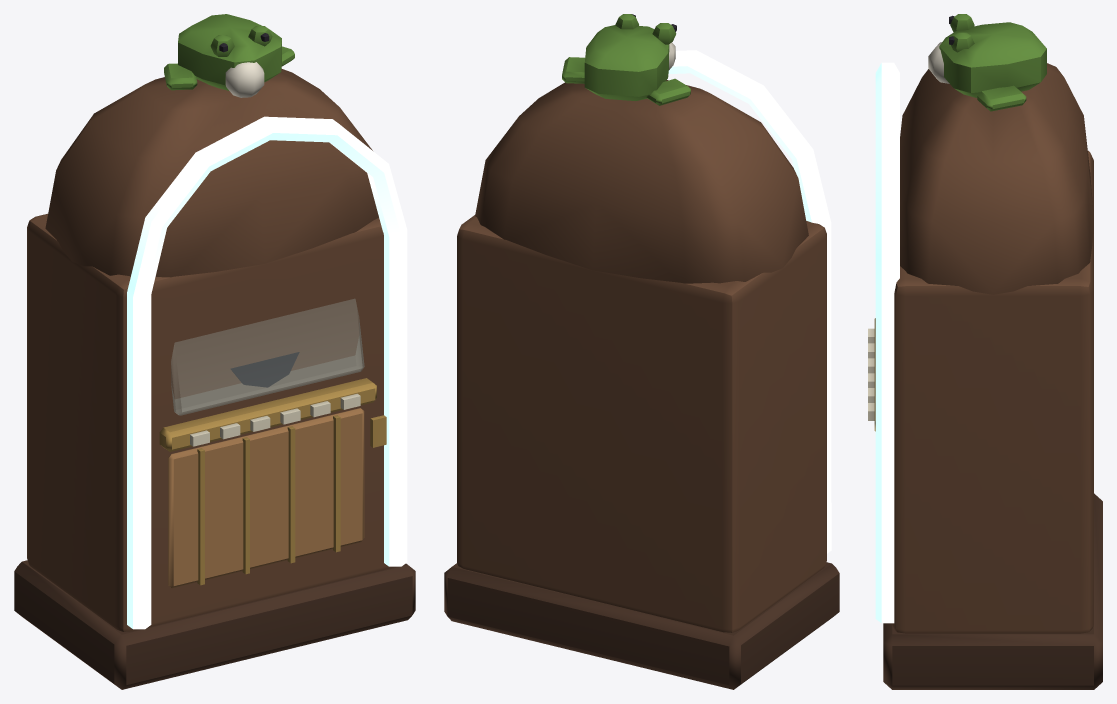
The model's file is jukebox_swamp.glb.
The picture shows the model from 3 angles, left to right: view 1: azimuth 30°, elevation 25°; view 2: azimuth 150°, elevation 25°; view 3: azimuth 270°, elevation 25°; orthographic projection. The views are drawn at different scales.
Parts seen in each view (by area): view 1: jukebox_swamp, glow; view 2: jukebox_swamp, glow; view 3: jukebox_swamp, glow.
Part boxes in pixels (box(x1,y1,x2,y2)): jukebox_swamp: box(14, 14, 415, 689); glow: box(127, 116, 407, 629); jukebox_swamp: box(444, 14, 839, 689); glow: box(668, 50, 831, 553); jukebox_swamp: box(868, 14, 1102, 689); glow: box(875, 62, 899, 623).
Bounding box in the file's own units: 0.8 × 1.51 × 0.535.
